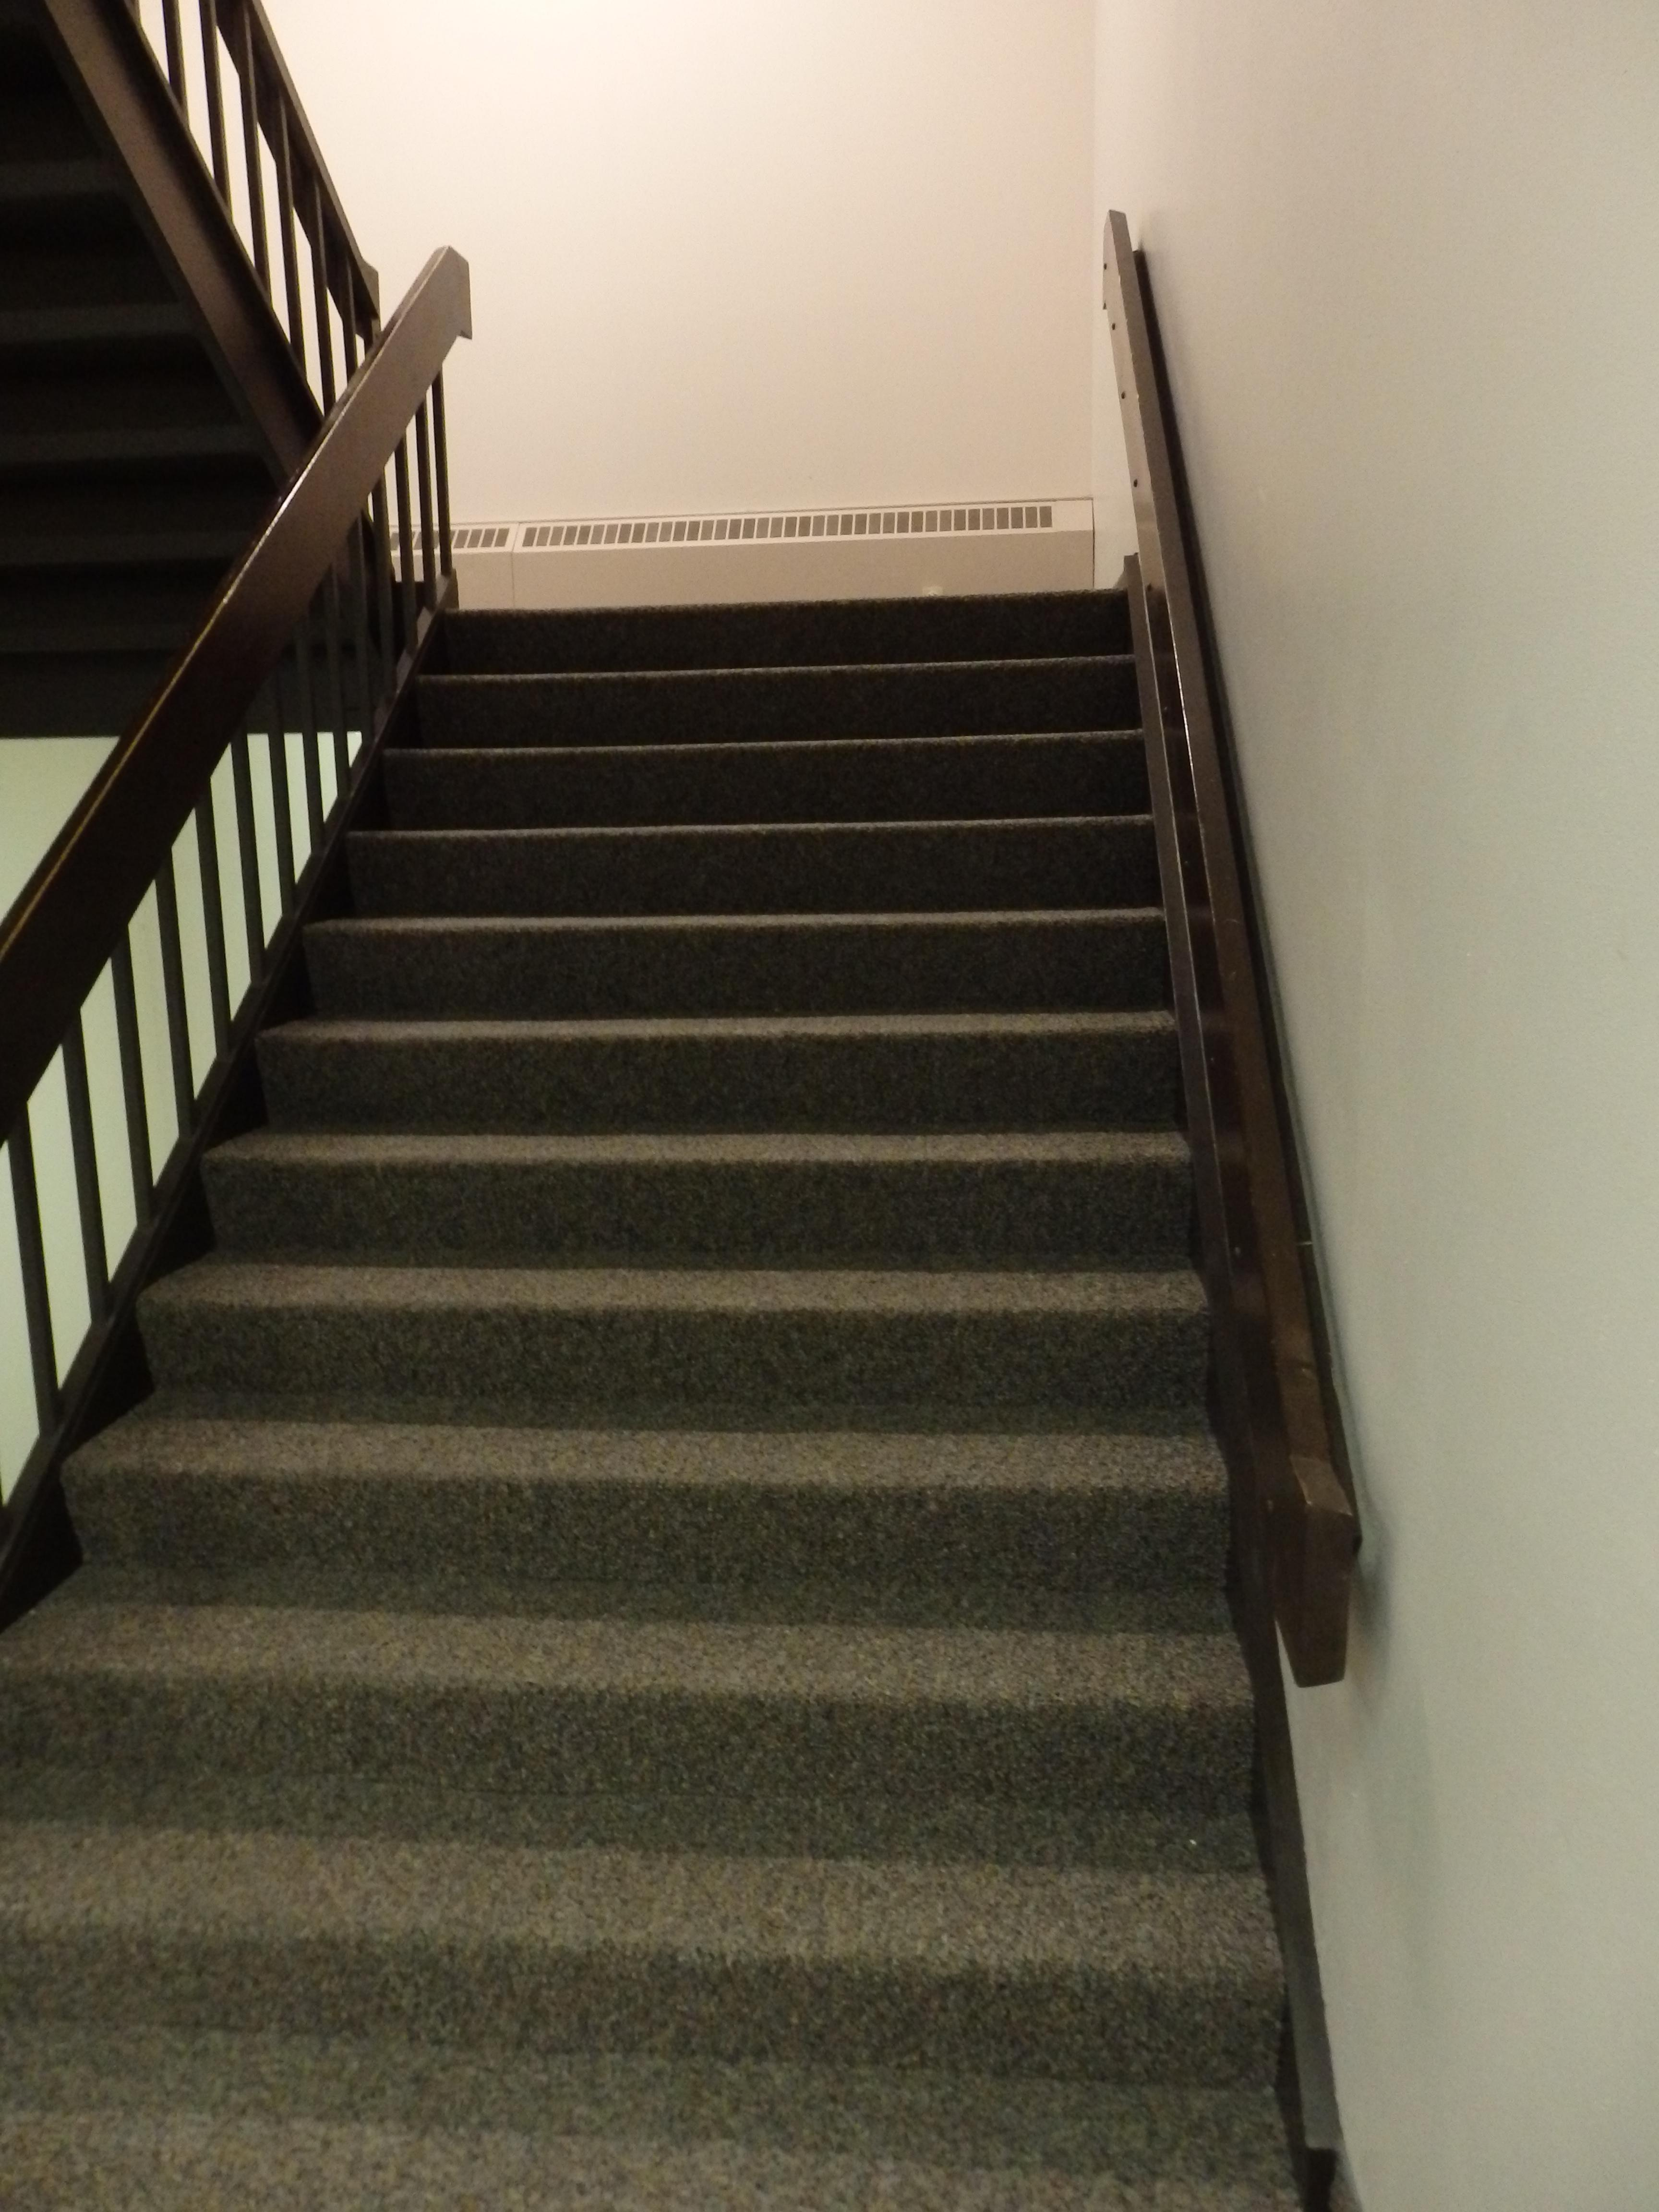stairs_up: (145, 578, 1122, 2022)
